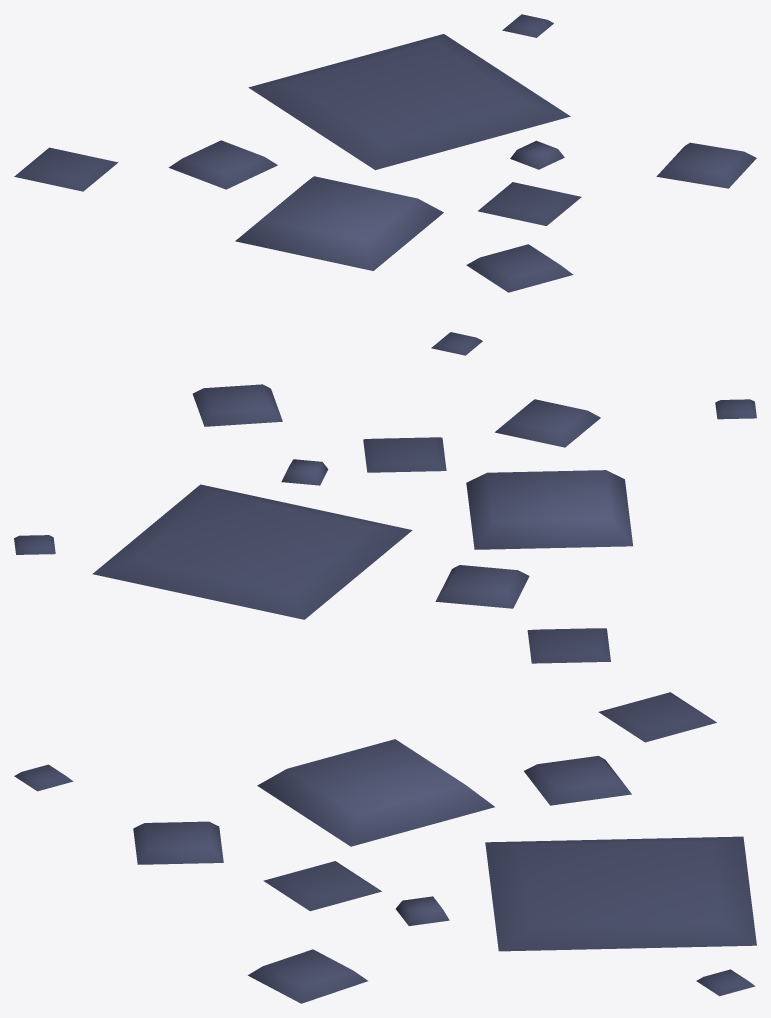
Rendered from Floor-debris.fbx.
3 views of the same model, one above another, from view 1: azimuth 30°, elevation 25°; view 2: azimuth 150°, elevation 25°; view 3: azimuth 270°, elevation 25° (orthographic). The views are drawn at different scales.
Parts seen in each view (by area): view 1: room-large.003; view 2: room-large.003; view 3: room-large.003.
Boxes of the visible parts, x1,y1,x2,y2 form: room-large.003: [14, 14, 756, 355]; room-large.003: [14, 384, 756, 663]; room-large.003: [14, 692, 756, 1003].
Size of the model in its own units: 137 by 4 by 138.
